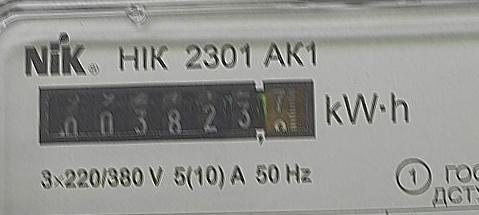0: (92, 107, 113, 135), (58, 112, 77, 136)
2: (196, 101, 217, 133)
3: (231, 98, 251, 129), (127, 105, 147, 134)
7: (268, 87, 285, 116)
8: (162, 105, 180, 134)
9: (59, 91, 78, 111)
screen: (26, 71, 317, 153)
